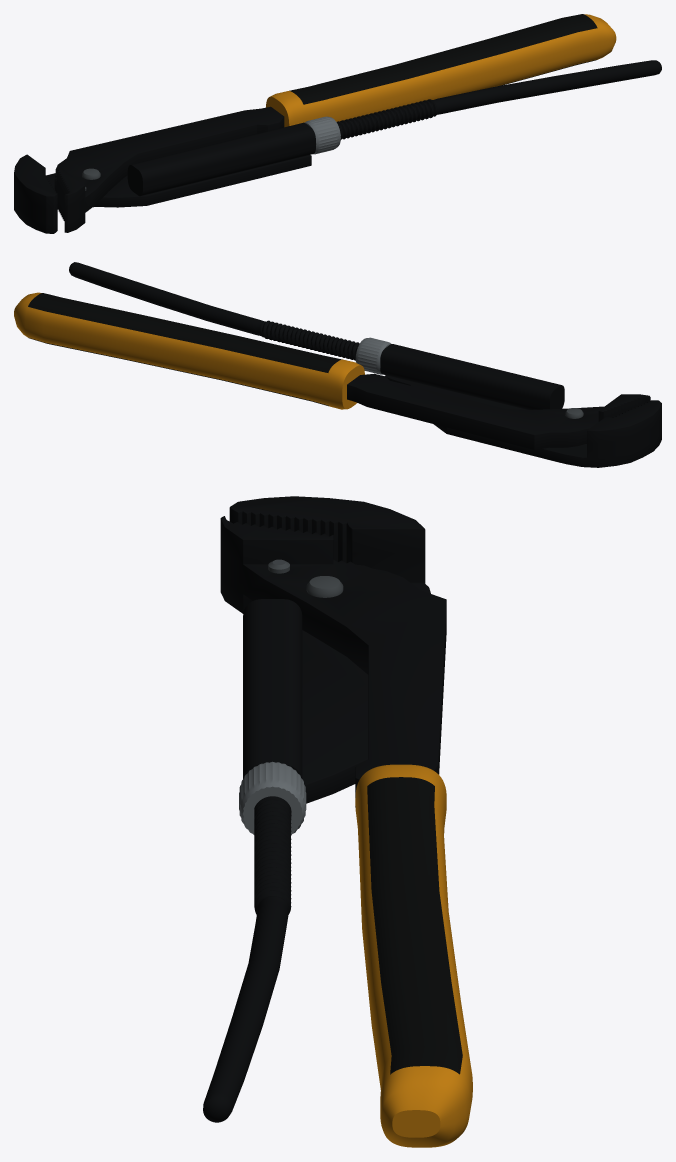
3 views of the same model, one above another, from view 1: azimuth 30°, elevation 25°; view 2: azimuth 150°, elevation 25°; view 3: azimuth 270°, elevation 25° (orthographic). The views are drawn at different scales.
Parts seen in each view (by area): view 1: part_009_Amber_grip_shell, part_007_Fixed_jaw_and_upper_handle_frame, part_003_Lower_carrier_sleeve, part_000_Threaded_spindle_and_lower_handle, part_008_Curved_movable_jaw_and_rear_linkage, part_005_Front_charcoal_grip_inlay, part_006_Fluted_adjustment_collar; view 2: part_009_Amber_grip_shell, part_007_Fixed_jaw_and_upper_handle_frame, part_003_Lower_carrier_sleeve, part_008_Curved_movable_jaw_and_rear_linkage, part_005_Front_charcoal_grip_inlay, part_000_Threaded_spindle_and_lower_handle, part_006_Fluted_adjustment_collar, part_001_Rear_charcoal_grip_inlay; view 3: part_007_Fixed_jaw_and_upper_handle_frame, part_005_Front_charcoal_grip_inlay, part_008_Curved_movable_jaw_and_rear_linkage, part_009_Amber_grip_shell, part_000_Threaded_spindle_and_lower_handle, part_003_Lower_carrier_sleeve, part_006_Fluted_adjustment_collar.
Part boxes in pixels (box(x1,y1,x2,y2)): part_009_Amber_grip_shell: box(266, 14, 616, 127); part_007_Fixed_jaw_and_upper_handle_frame: box(54, 106, 284, 232); part_003_Lower_carrier_sleeve: box(127, 122, 315, 196); part_000_Threaded_spindle_and_lower_handle: box(336, 60, 661, 139); part_008_Curved_movable_jaw_and_rear_linkage: box(14, 154, 311, 233); part_005_Front_charcoal_grip_inlay: box(289, 14, 597, 104); part_006_Fluted_adjustment_collar: box(304, 116, 340, 154); part_009_Amber_grip_shell: box(14, 292, 364, 409); part_007_Fixed_jaw_and_upper_handle_frame: box(347, 373, 650, 449); part_003_Lower_carrier_sleeve: box(380, 344, 564, 409); part_008_Curved_movable_jaw_and_rear_linkage: box(385, 375, 661, 467); part_005_Front_charcoal_grip_inlay: box(28, 293, 342, 372); part_000_Threaded_spindle_and_lower_handle: box(69, 262, 359, 360); part_006_Fluted_adjustment_collar: box(355, 337, 391, 374); part_001_Rear_charcoal_grip_inlay: box(28, 337, 328, 406); part_007_Fixed_jaw_and_upper_handle_frame: box(220, 516, 446, 807); part_005_Front_charcoal_grip_inlay: box(367, 777, 462, 1074); part_008_Curved_movable_jaw_and_rear_linkage: box(229, 496, 430, 803); part_009_Amber_grip_shell: box(355, 764, 472, 1147); part_000_Threaded_spindle_and_lower_handle: box(203, 796, 291, 1122); part_003_Lower_carrier_sleeve: box(243, 599, 302, 778); part_006_Fluted_adjustment_collar: box(239, 761, 306, 834).
Bounding box in the file's own units: 0.2816 × 0.0185 × 0.0546.
